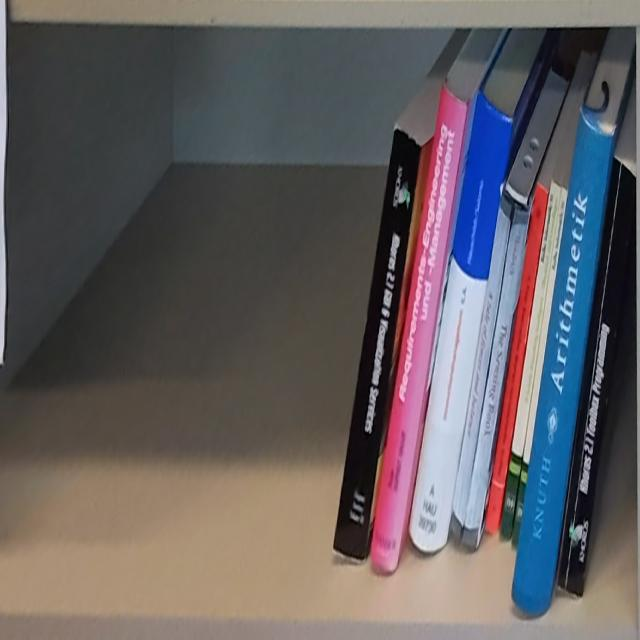Book Spine: (512, 105, 614, 617), (408, 89, 514, 555), (371, 77, 470, 572), (334, 128, 421, 555), (559, 151, 636, 599), (460, 207, 530, 549), (498, 174, 562, 544), (449, 188, 513, 549), (486, 178, 547, 529), (511, 187, 569, 546)
